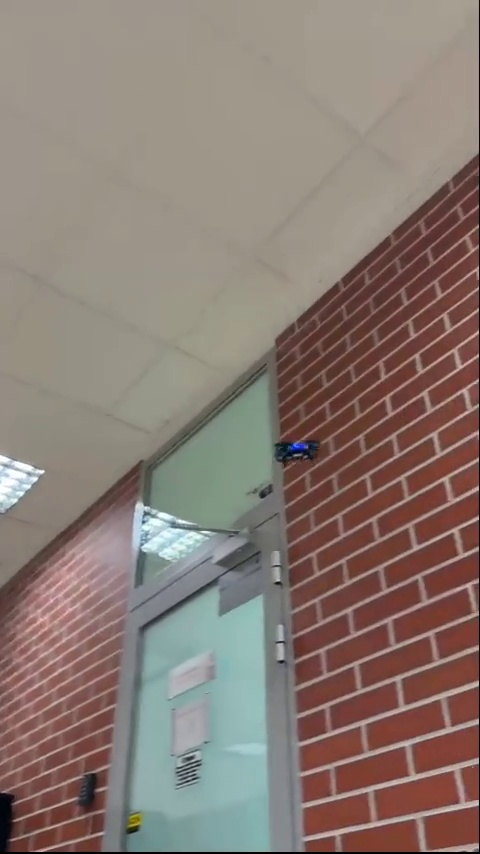drone: (271, 436, 321, 469)
